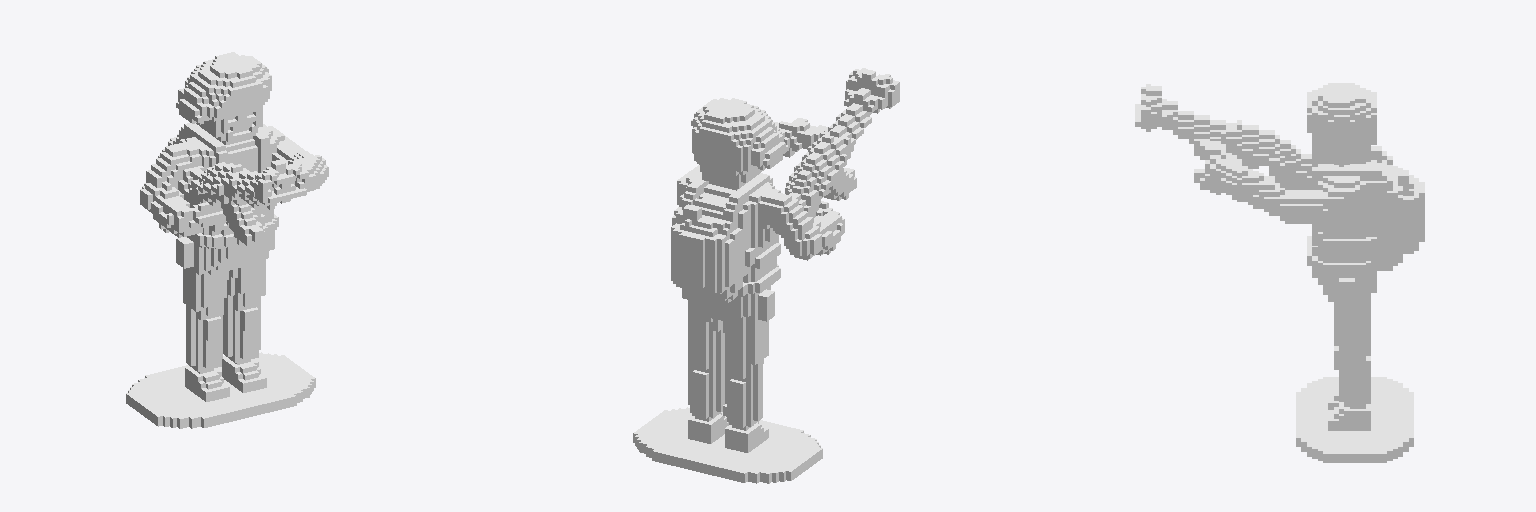
File: gun_up_soldier_LVL2_4.0.obj
The picture shows the model from 3 angles: view 1: azimuth 30°, elevation 25°; view 2: azimuth 150°, elevation 25°; view 3: azimuth 270°, elevation 25°; orthographic projection.
Parts seen in each view (by area): view 1: object 1; view 2: object 1; view 3: object 1.
Boxes of the visible parts, box(x1,y1,x2,y2) form: object 1: box(126, 52, 328, 428); object 1: box(633, 68, 899, 483); object 1: box(1135, 83, 1424, 462).
Bounding box in the file's own units: 3.5 × 6.9 × 5.4.